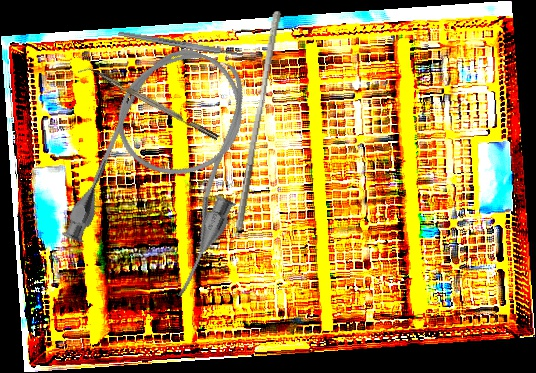Cannula: (55, 30, 284, 303)
Chopper: (78, 60, 219, 148)
Pusher: (235, 9, 282, 233)
Scalpel Handle: (117, 29, 244, 59)
